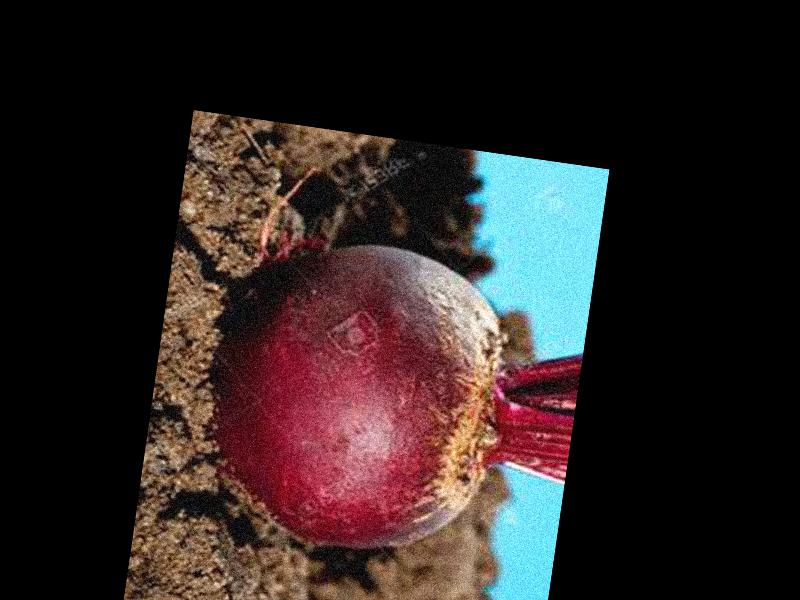Beet: (196, 223, 591, 575)
